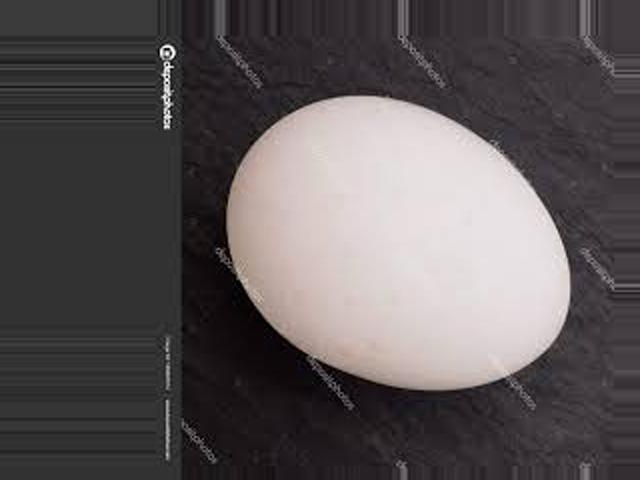egg: (224, 96, 566, 390)
